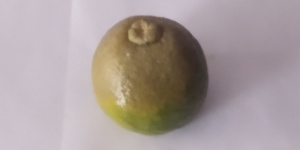BAD: (92, 14, 209, 135)
